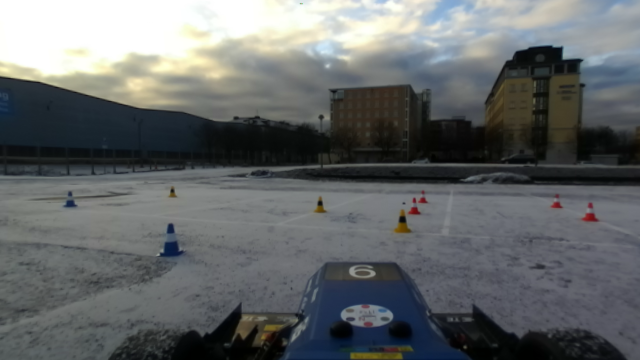blue: (157, 220, 182, 256), (61, 190, 78, 207)
orange: (580, 200, 598, 220), (549, 193, 564, 209)
yellow: (392, 209, 412, 234), (312, 194, 329, 214), (165, 185, 178, 198)
